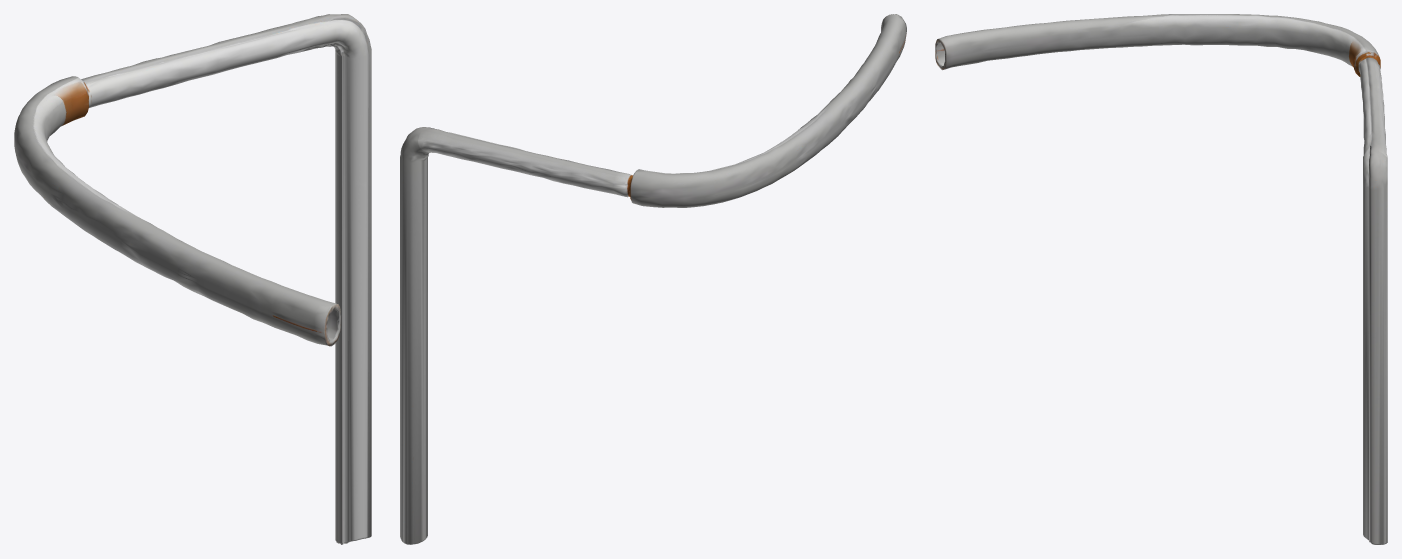
The picture shows the model from 3 angles, left to right: view 1: azimuth 30°, elevation 25°; view 2: azimuth 150°, elevation 25°; view 3: azimuth 270°, elevation 25°; orthographic projection. The views are drawn at different scales.
Parts seen in each view (by area): view 1: tripo_node_d749e7f9-12f1-44bf-a4e8-de89e83a639a; view 2: tripo_node_d749e7f9-12f1-44bf-a4e8-de89e83a639a; view 3: tripo_node_d749e7f9-12f1-44bf-a4e8-de89e83a639a.
Part boxes in pixels (x1,y1,x2,y2): tripo_node_d749e7f9-12f1-44bf-a4e8-de89e83a639a: [14, 14, 371, 544]; tripo_node_d749e7f9-12f1-44bf-a4e8-de89e83a639a: [400, 14, 906, 544]; tripo_node_d749e7f9-12f1-44bf-a4e8-de89e83a639a: [935, 14, 1387, 544].
Bounding box in the file's own units: 0.7676 × 0.9551 × 0.998.
Materials: 1 (1 with a texture image).
